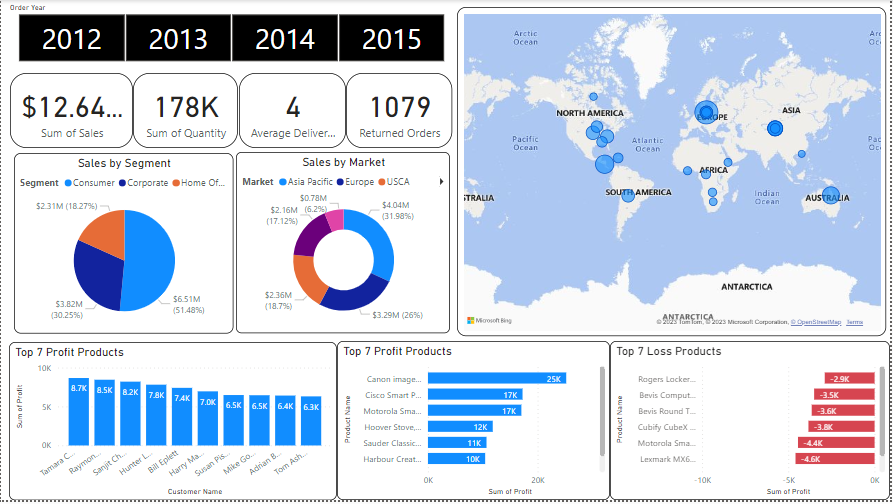

This screenshot's page, from the dashboard's own definition file:
{"tool":"powerbi","page":{"name":"Page 1","canvas":[1280,720],"ordinal":0},"visuals":[{"type":"card","fields":{"Values":["Orders.Sales"]},"box":[13.6,105.1,177.1,108],"z":0},{"type":"card","fields":{"Values":["Orders.Quantity"]},"box":[190.7,105.1,151.2,108],"z":1000},{"type":"card","fields":{"Values":["Orders.Delievery Date"]},"box":[343.3,105.1,154.1,108],"z":2000},{"type":"slicer","fields":{"Values":["Orders.Order Year"]},"box":[0,0,662.4,95],"z":3000},{"type":"card","fields":{"Values":["Returns.Returned Order"]},"box":[497.4,105.1,152.6,108],"z":4000},{"type":"map","fields":{"Category":["Orders.Region"],"Size":["Orders.Sales"]},"box":[656,10,618,474],"z":5000},{"type":"barChart","title":"Top 7 Profit Products","fields":{"Category":["Orders.Product Name"],"Y":["Orders.Profit"]},"box":[483.8,491,393.1,229],"z":6000},{"type":"barChart","title":"Top 7 Loss Products","fields":{"Category":["Orders.Product Name"],"Y":["Orders.Profit"]},"box":[877,491,403.2,229],"z":7000},{"type":"pieChart","title":"Sales by Segment","fields":{"Y":["Orders.Sales"],"Category":["Orders.Segment"]},"box":[18.6,220,315.7,260],"z":7001},{"type":"donutChart","title":"Sales by Market","fields":{"Y":["Orders.Sales"],"Category":["Orders.Market"]},"box":[338.4,219.4,308.2,260.6],"z":7002},{"type":"columnChart","title":"Top 7 Profit Products","fields":{"Y":["Orders.Profit"],"Category":["Orders.Customer Name"]},"box":[12,492,472,228],"z":7003}]}

Visuals, with their boxes in screenshot pixels (x1, y1, x2, y2), scaled from the page's 1280x720 canvas onto the 893x504 screenshot:
card - Orders.Sales: (9,74,133,149)
card - Orders.Quantity: (133,74,239,149)
card - Orders.Delievery Date: (240,74,347,149)
slicer - Orders.Order Year: (0,0,462,66)
card - Returns.Returned Order: (347,74,453,149)
map - Orders.Region x Orders.Sales: (458,7,889,339)
"Top 7 Profit Products" barChart: (338,344,612,503)
"Top 7 Loss Products" barChart: (612,344,892,503)
"Sales by Segment" pieChart: (13,154,233,336)
"Sales by Market" donutChart: (236,154,451,336)
"Top 7 Profit Products" columnChart: (8,344,338,503)
